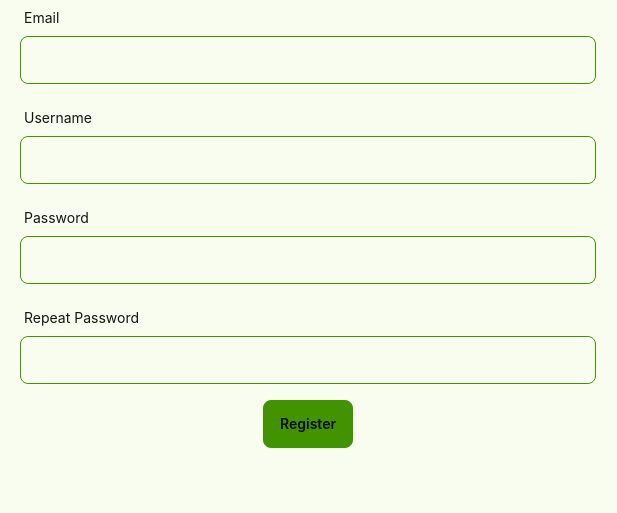
FormRegister Component › should display error when passwords do not match
The width and height of the screenshot is (617, 513).
Type "Password1!" into the password field labelled "Password" at [308, 260], box [20, 236, 596, 284]
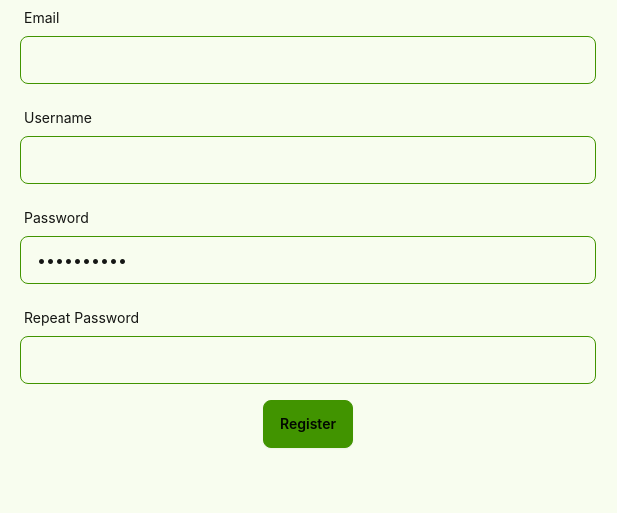
Type "Password2!" into the password field labelled "Repeat Password" at [308, 360], box [20, 336, 596, 384]
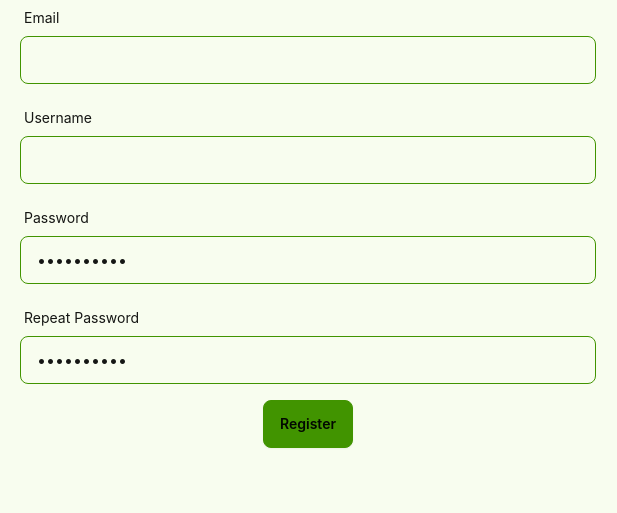
Click the button "Register" at [308, 424], box [263, 400, 353, 448]
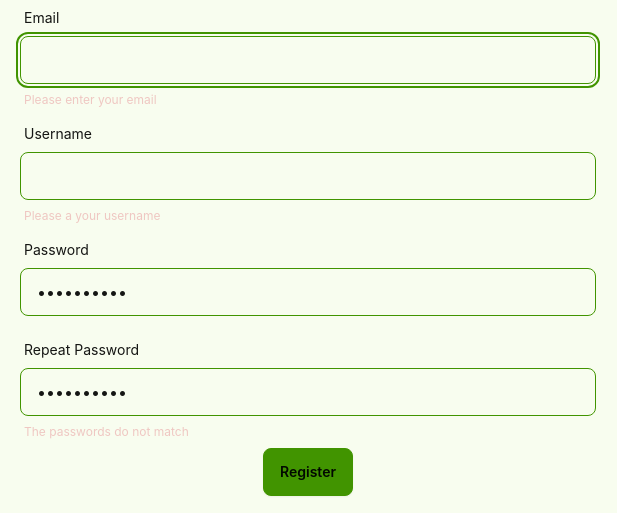
Check: the text "The passwords do not match" is shown, box [24, 424, 189, 440]
